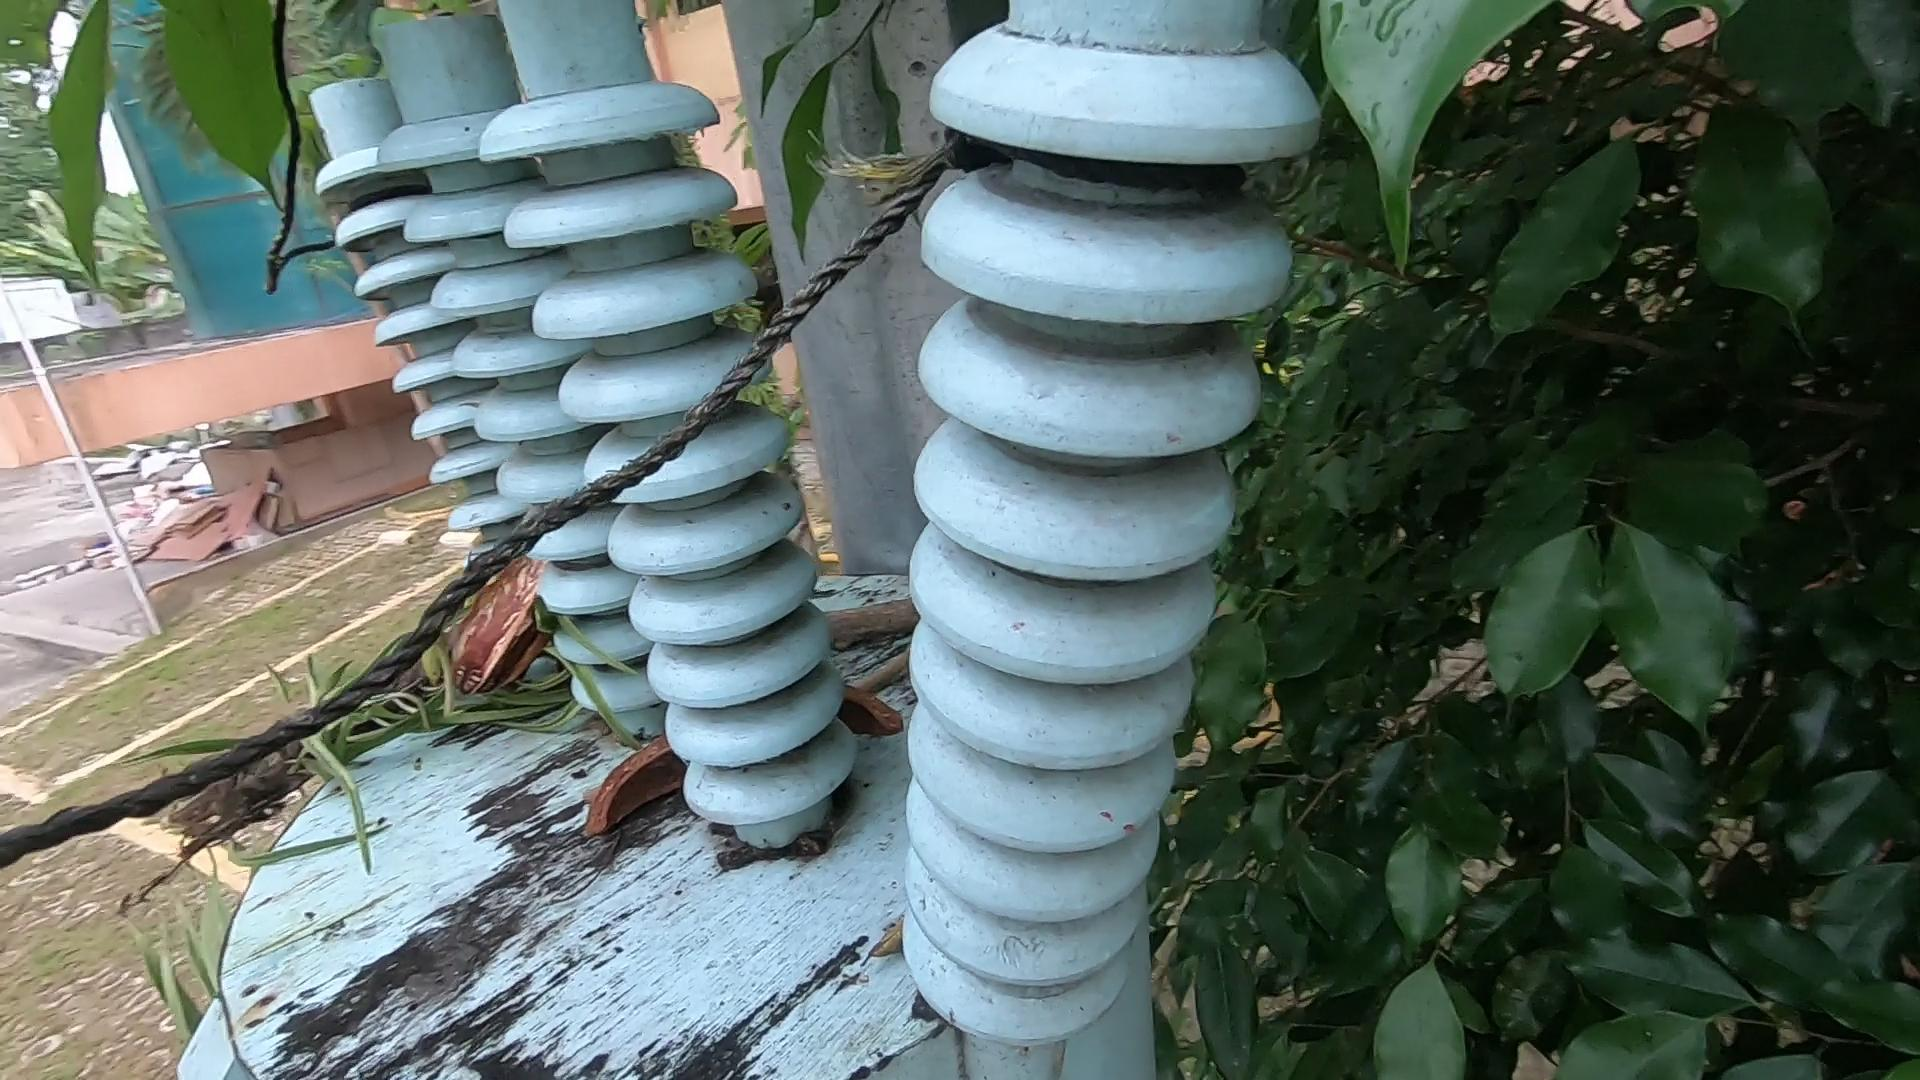branch with leaves: (145, 467, 989, 907)
leaf: (824, 808, 924, 998)
mahogany fruit: (604, 702, 920, 873), (454, 549, 537, 692)
tree branch: (831, 512, 997, 814)
